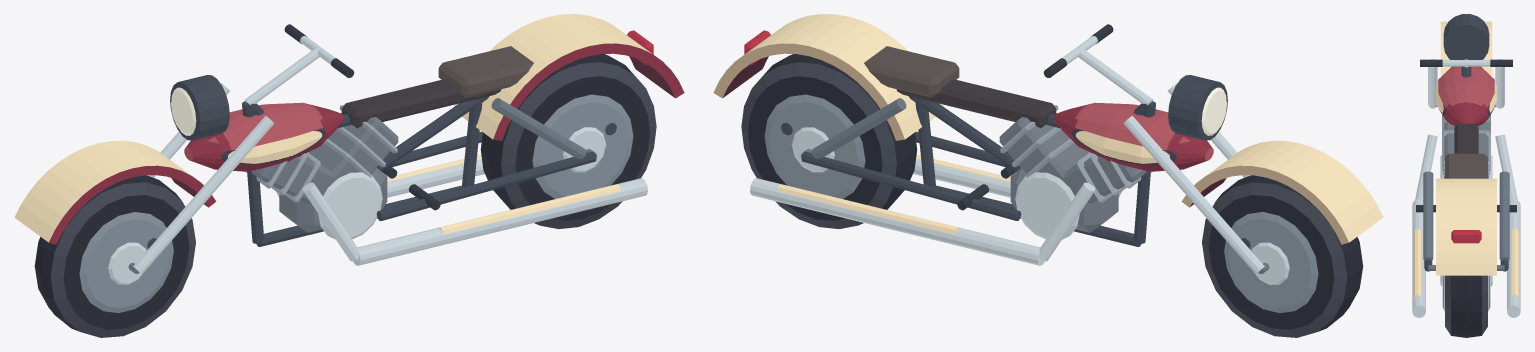
3 views of the same model, side by side, from view 1: azimuth 30°, elevation 25°; view 2: azimuth 150°, elevation 25°; view 3: azimuth 270°, elevation 25° (orthographic). The views are drawn at different scales.
Visible parts, largest first — view 1: Body_static, Wheel_F_tire_hub, Wheel_R_tire_hub; view 2: Body_static, Wheel_F_tire_hub, Wheel_R_tire_hub; view 3: Body_static, Wheel_R_tire_hub.
Part boxes in pixels (<box>): Body_static: <box>14,14,684,274</box>; Wheel_F_tire_hub: <box>34,175,195,337</box>; Wheel_R_tire_hub: <box>480,54,656,229</box>; Body_static: <box>713,14,1383,274</box>; Wheel_F_tire_hub: <box>1202,175,1363,337</box>; Wheel_R_tire_hub: <box>741,54,917,229</box>; Body_static: <box>1412,14,1520,317</box>; Wheel_R_tire_hub: <box>1440,275,1492,337</box>.
Bounding box in the file's own units: 63.14 × 22.5 × 12.35.
1 material, 1 textured.
